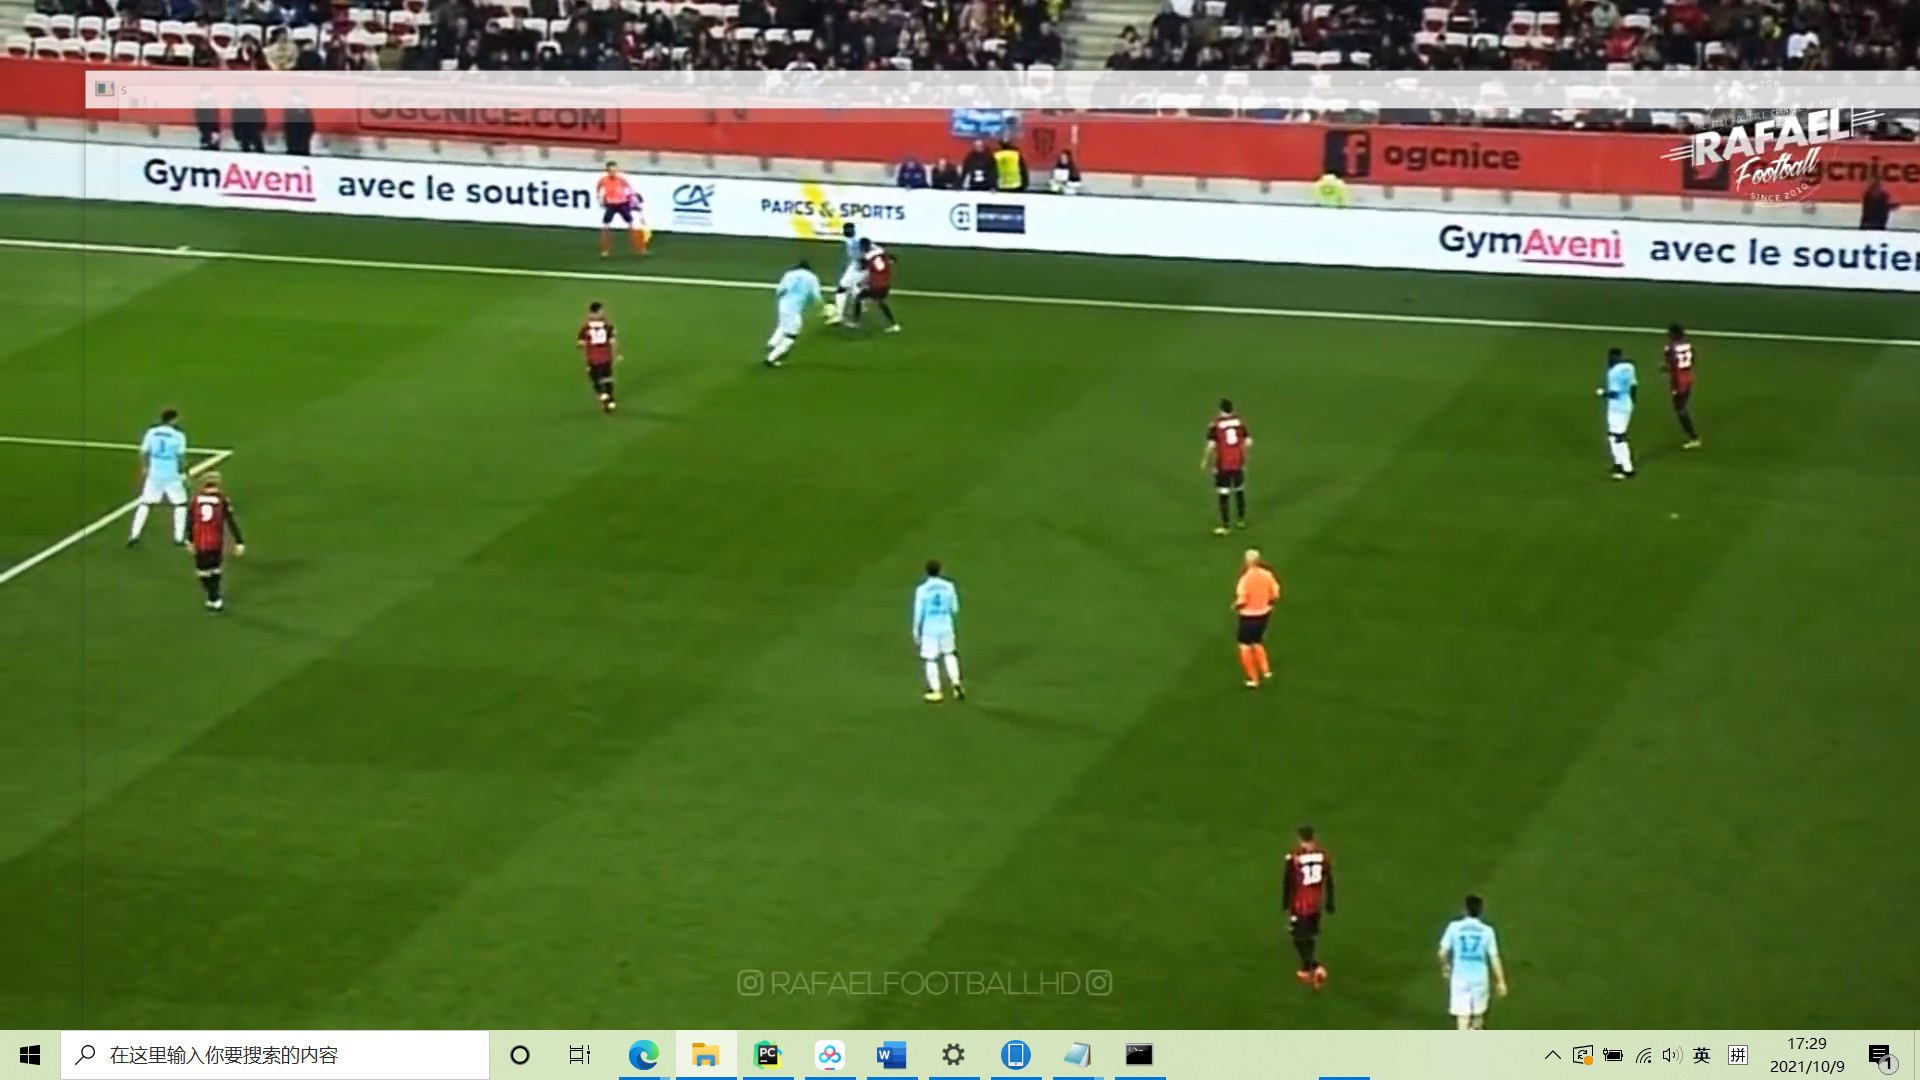ft: (822, 302, 837, 319)
